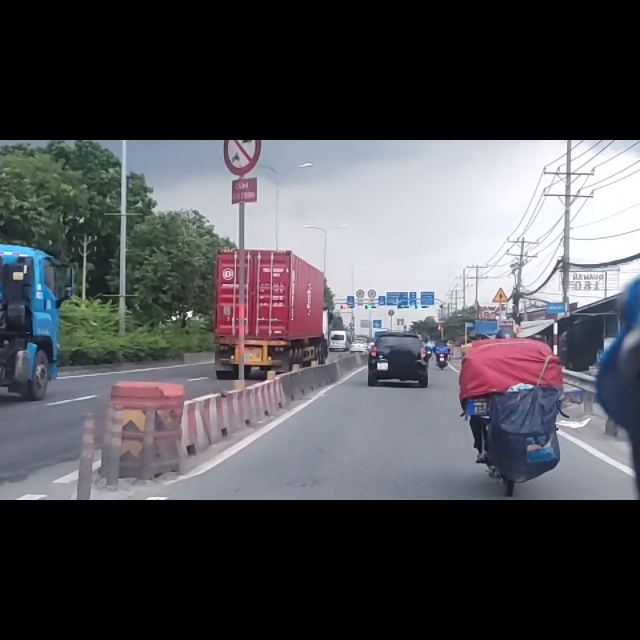bien_chi_dan: (223, 1, 262, 60), (492, 262, 509, 289)
